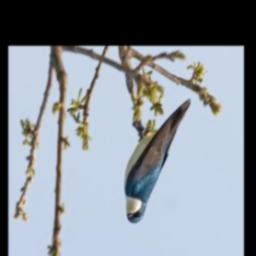Swallow: (121, 97, 194, 230)
